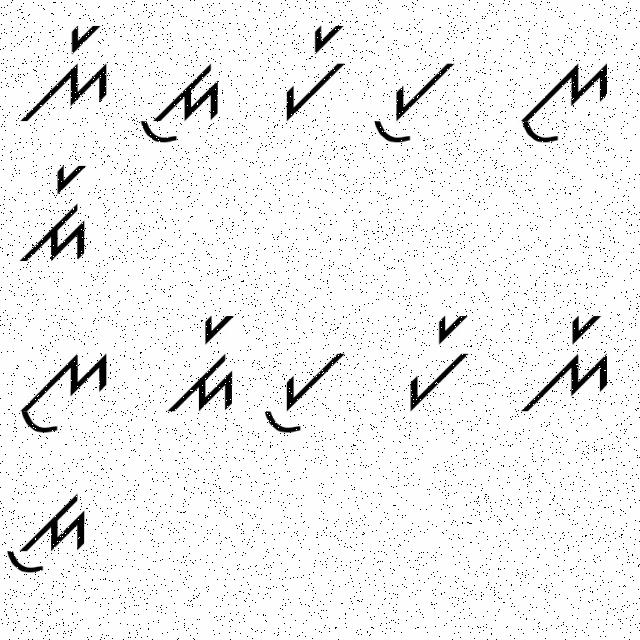dar: (16, 159, 104, 267), (160, 308, 242, 422)
daw: (3, 482, 94, 581), (134, 55, 226, 149)
nar: (516, 308, 622, 421), (17, 24, 117, 124)
naw: (13, 339, 117, 438), (510, 55, 616, 148)
par: (400, 304, 474, 416), (278, 22, 352, 124)
paw: (366, 53, 462, 153), (254, 343, 349, 439)
